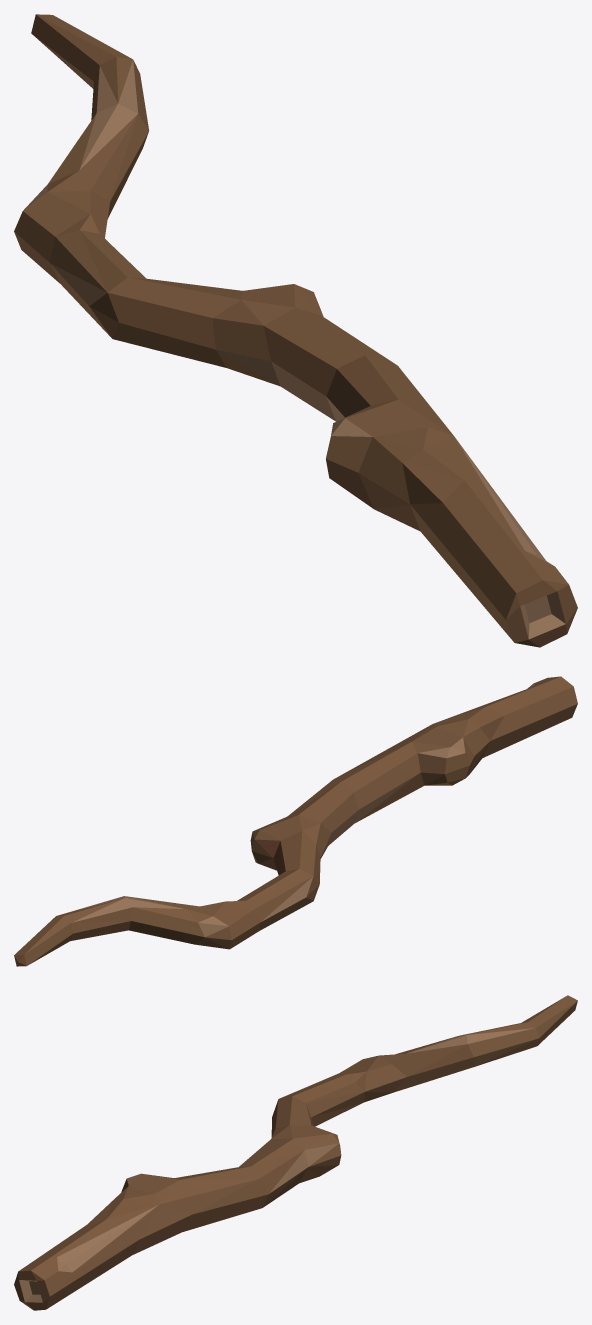
The model's file is mesh_stick_02.fbx.
The picture shows the model from 3 angles, top to bottom: view 1: azimuth 30°, elevation 25°; view 2: azimuth 150°, elevation 25°; view 3: azimuth 330°, elevation 25°; orthographic projection. The views are drawn at different scales.
Visible parts, largest first — view 1: mesh_stick_02; view 2: mesh_stick_02; view 3: mesh_stick_02.
Boxes of the visible parts, box(x1,y1,x2,y2) form: mesh_stick_02: box(14, 14, 577, 647); mesh_stick_02: box(14, 676, 577, 966); mesh_stick_02: box(14, 995, 577, 1310).
Size of the model in its own units: 0.1507 by 0.0578 by 0.7097.
